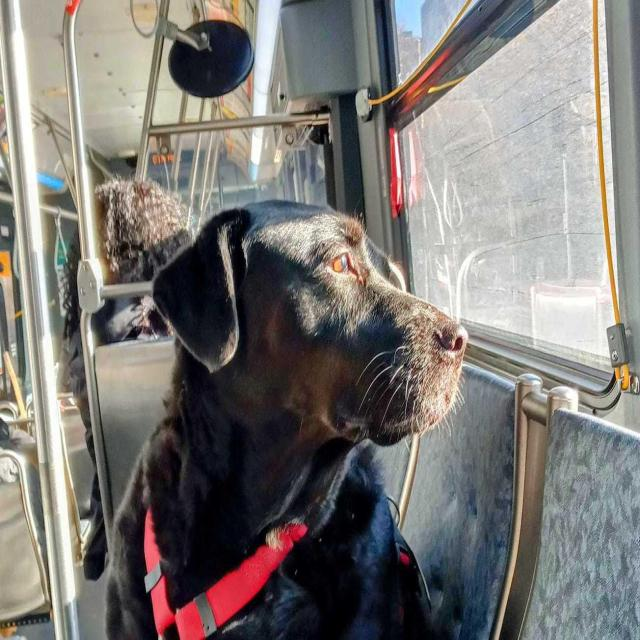Dog: (143, 186, 473, 473)
